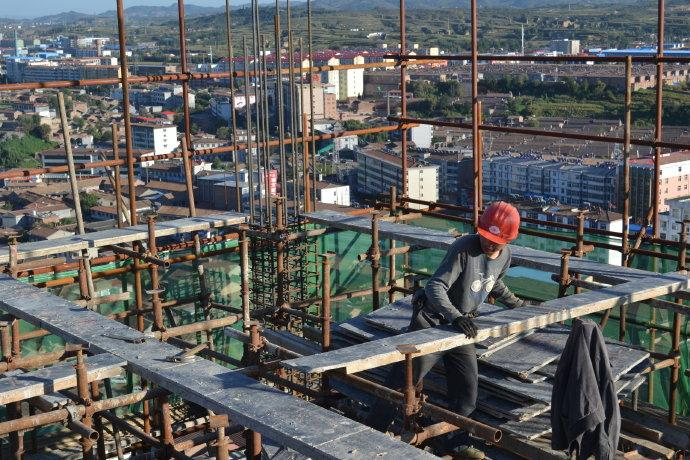helmet: (477, 202, 523, 246)
